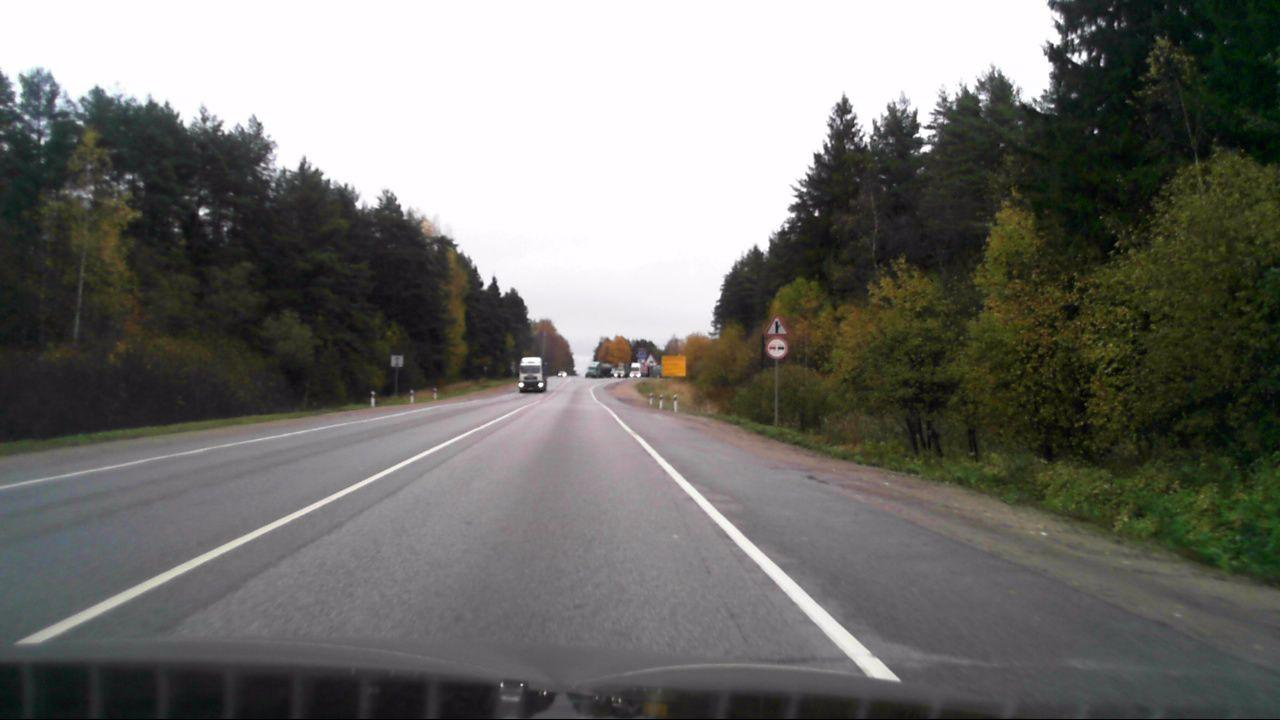2_3_4: (765, 316, 787, 335)
3_20: (765, 338, 789, 359)
